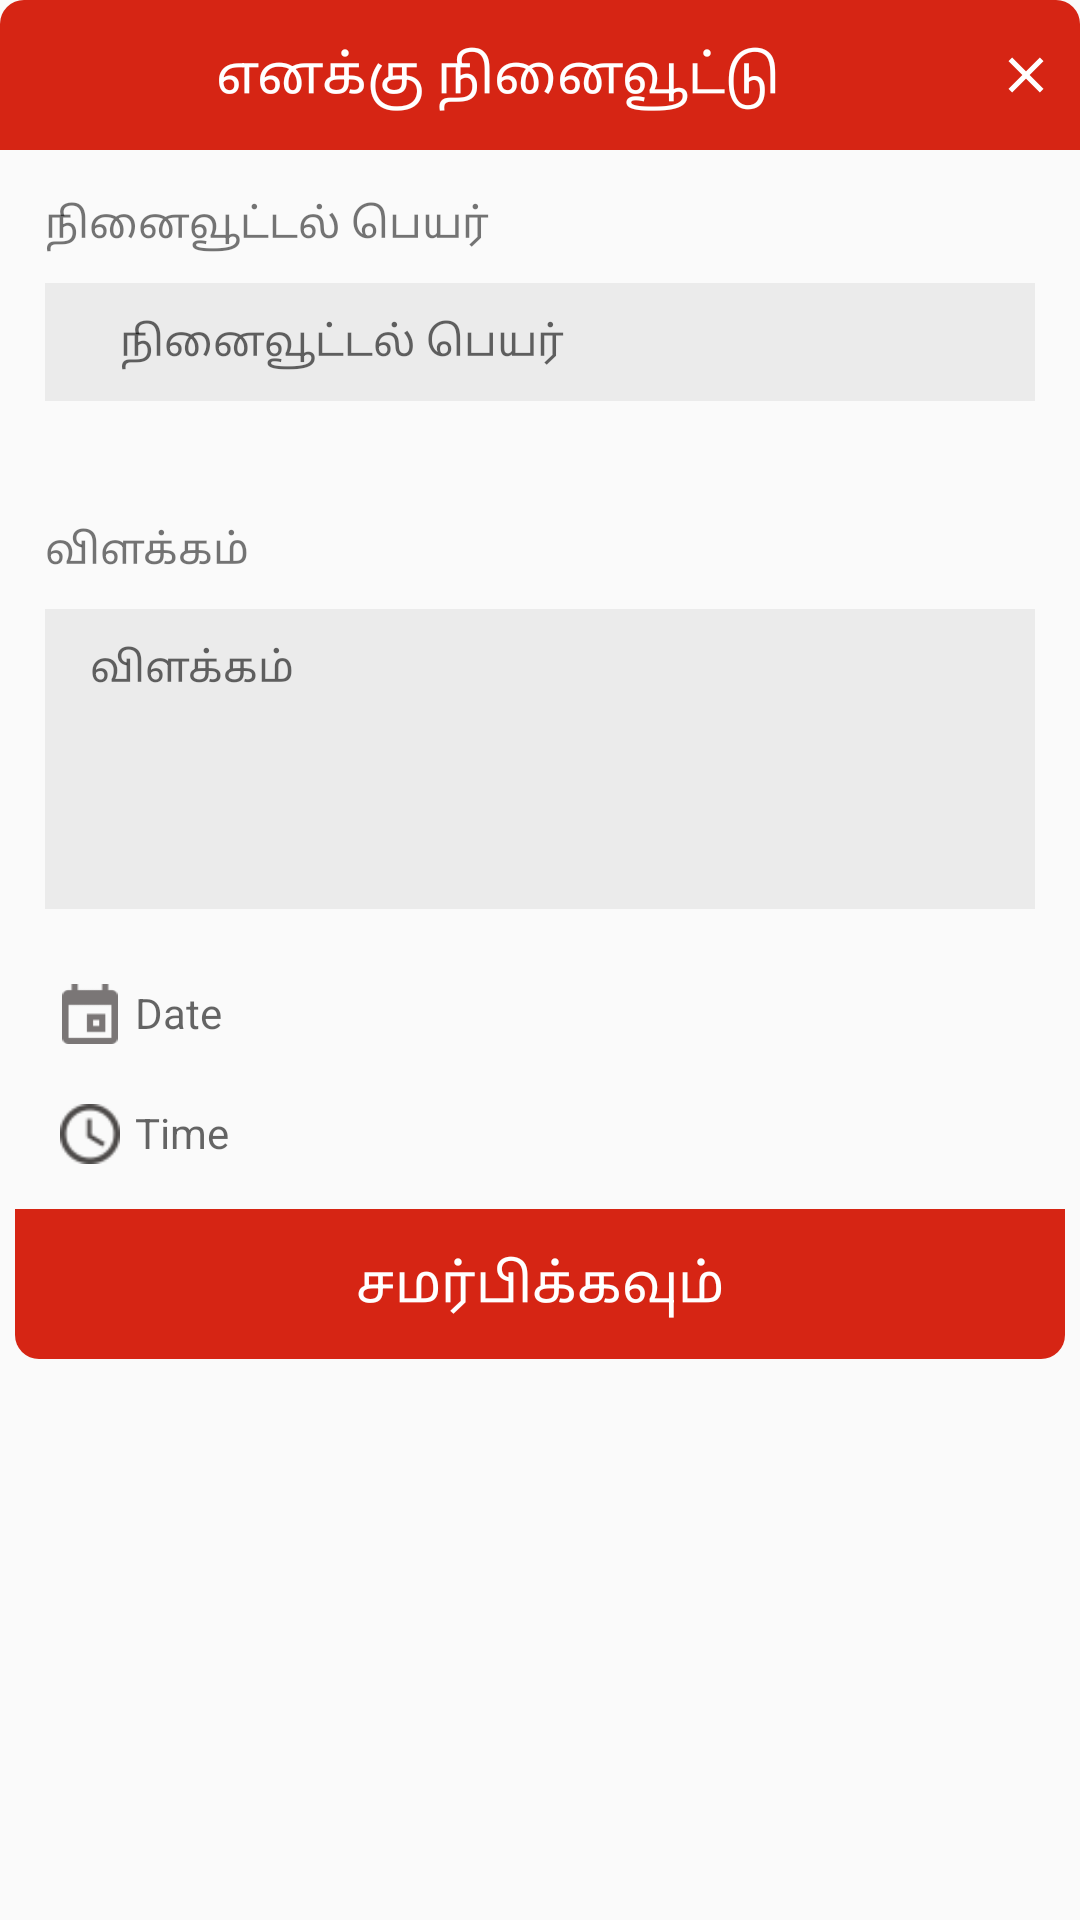

Icon click points for this 1080*1920 phone screenshot, format point (x, y):
close dialog: point (1026, 75)
